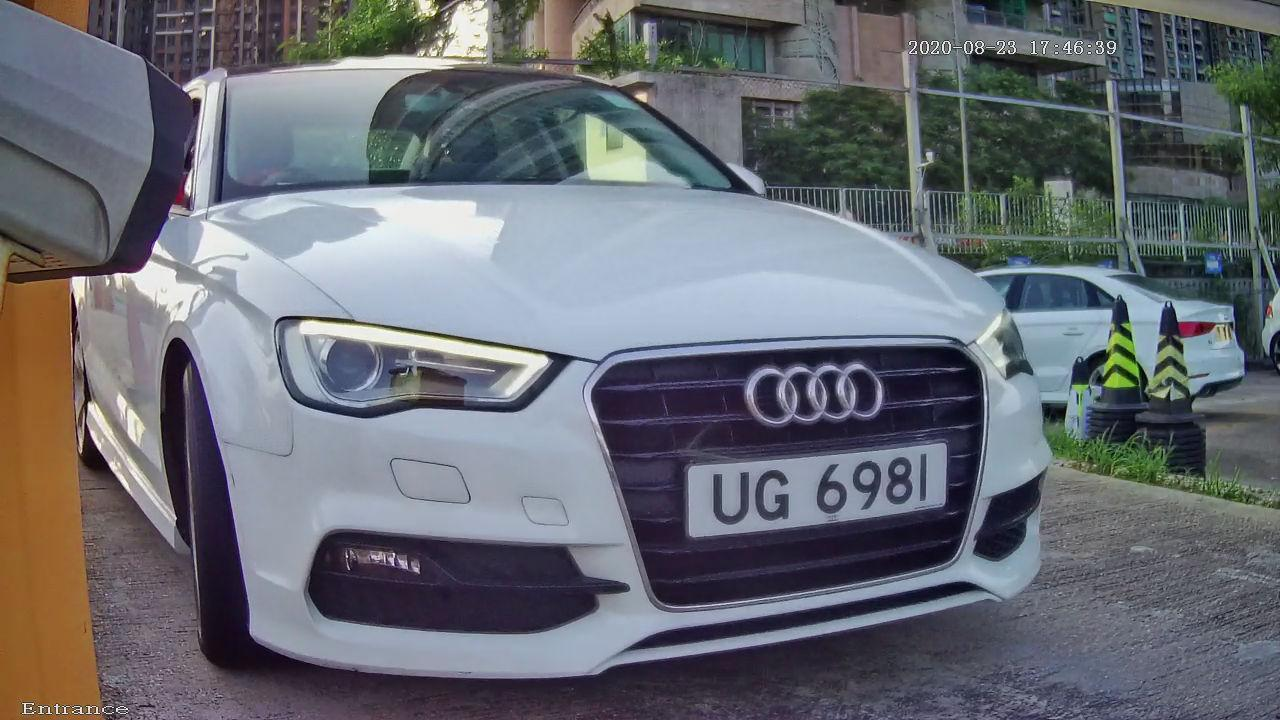Car: (41, 10, 1149, 717)
License Plate: (644, 413, 1002, 565)
